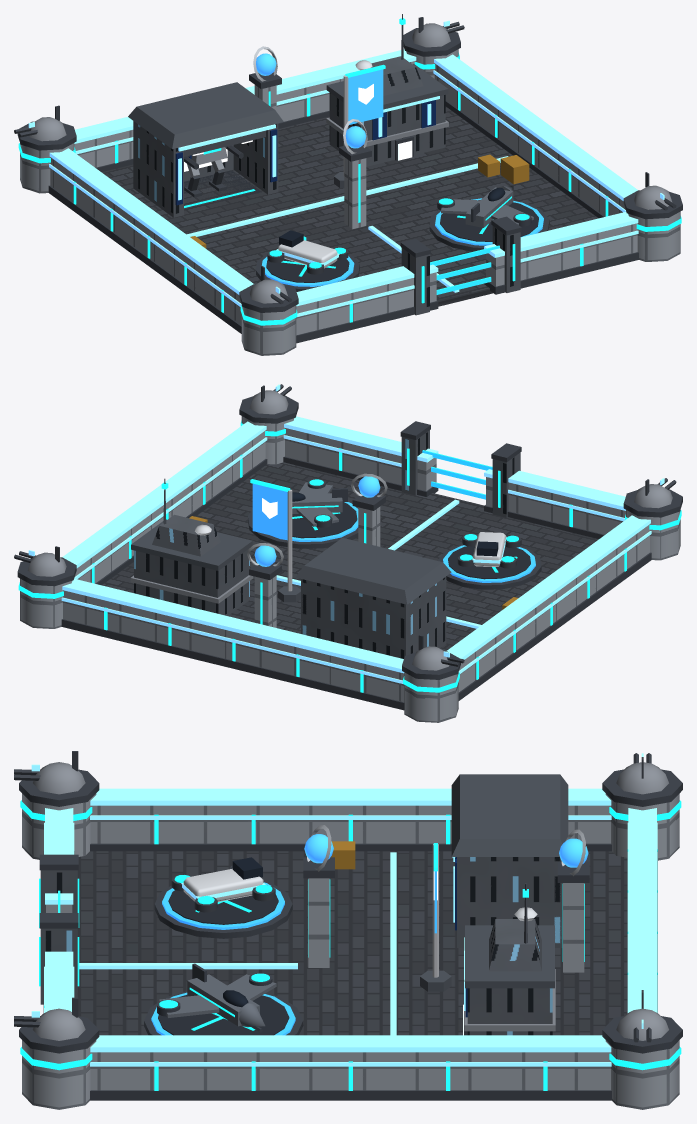
The model's file is military_base_scifi_blue.glb.
The picture shows the model from 3 angles, top to bottom: view 1: azimuth 30°, elevation 25°; view 2: azimuth 150°, elevation 25°; view 3: azimuth 270°, elevation 25°; orthographic projection. The views are drawn at different scales.
Parts seen in each view (by area): view 1: military_base_scifi_blue; view 2: military_base_scifi_blue; view 3: military_base_scifi_blue.
Part boxes in pixels (x1=…): military_base_scifi_blue: x1=14, y1=14, x2=682, y2=355; military_base_scifi_blue: x1=14, y1=384, x2=682, y2=722; military_base_scifi_blue: x1=14, y1=751, x2=682, y2=1109.
Bounding box in the file's own units: 1.27 × 0.35 × 1.26.
11 materials, 1 textured.
